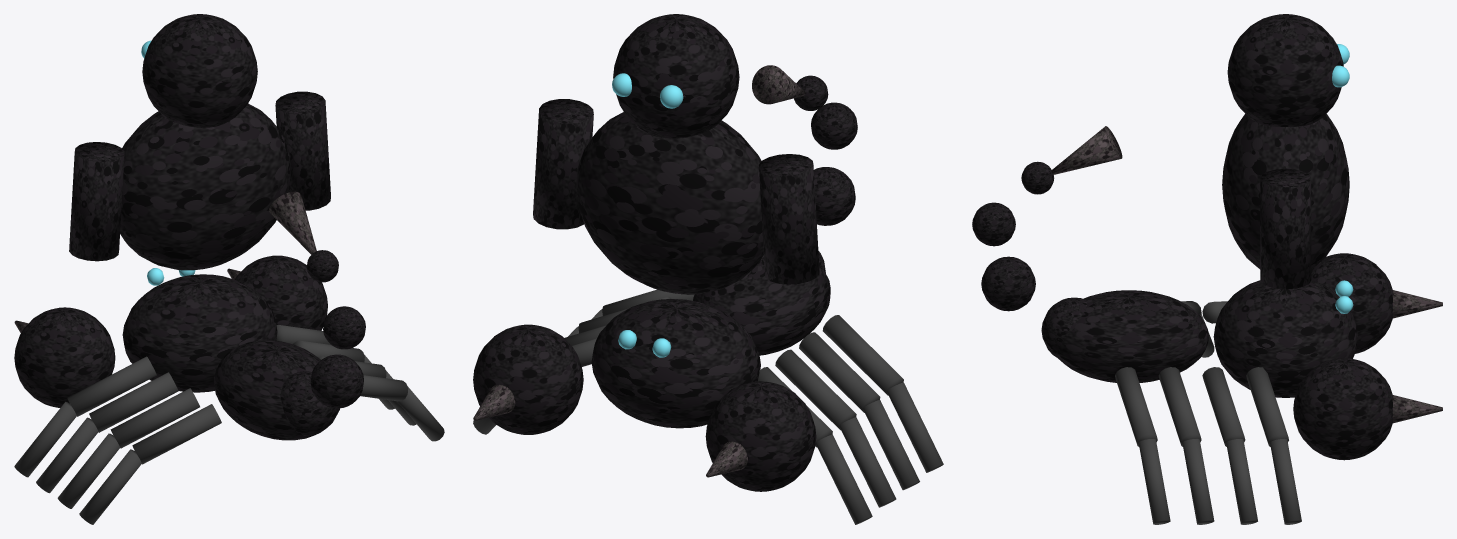
Rendered from scorpion-man.glb.
3 renders of one model, left to right at view 1: azimuth 30°, elevation 25°; view 2: azimuth 150°, elevation 25°; view 3: azimuth 270°, elevation 25°, orthographic. The views are drawn at different scales.
Visible parts, largest first — view 1: Torso, FrontMass, Head, Claw, Abdomen, Arm, Arm.001, Claw.001, TailSeg1, TailSeg0, LegUpper, LegUpper.002 (+13 smaller); view 2: Torso, FrontMass, Head, Claw, Claw.001, Arm, Abdomen, Arm.001, LegUpper.001, LegUpper.003, LegUpper.002, TailSeg1 (+11 smaller); view 3: FrontMass, Torso, Abdomen, Head, Claw.001, Arm.001, Claw, TailSeg1, LegUpper.005, LegUpper.007, LegUpper.004, LegUpper.006 (+10 smaller).
Part boxes in pixels (bbox=[...]): Torso: bbox=[120, 103, 291, 270]; FrontMass: bbox=[122, 274, 277, 392]; Head: bbox=[142, 14, 257, 127]; Claw: bbox=[14, 307, 115, 407]; Abdomen: bbox=[214, 340, 339, 440]; Arm: bbox=[69, 142, 124, 261]; Arm.001: bbox=[275, 91, 330, 210]; Claw.001: bbox=[235, 255, 327, 330]; TailSeg1: bbox=[310, 354, 363, 408]; TailSeg0: bbox=[280, 371, 335, 435]; LegUpper: bbox=[67, 356, 156, 416]; LegUpper.002: bbox=[110, 388, 199, 448]; Torso: bbox=[576, 112, 763, 294]; FrontMass: bbox=[591, 299, 760, 428]; Head: bbox=[613, 14, 739, 138]; Claw: bbox=[705, 381, 816, 491]; Claw.001: bbox=[473, 324, 583, 434]; Arm: bbox=[758, 154, 819, 284]; Abdomen: bbox=[693, 255, 830, 355]; Arm.001: bbox=[533, 99, 593, 229]; LegUpper.001: bbox=[775, 349, 856, 430]; LegUpper.003: bbox=[822, 315, 903, 395]; LegUpper.002: bbox=[799, 332, 880, 412]; TailSeg1: bbox=[814, 167, 855, 225]; FrontMass: bbox=[1213, 280, 1357, 397]; Torso: bbox=[1222, 113, 1349, 269]; Abdomen: bbox=[1057, 290, 1209, 382]; Head: bbox=[1227, 14, 1343, 126]; Claw.001: bbox=[1293, 358, 1393, 460]; Arm.001: bbox=[1260, 168, 1311, 289]; Claw: bbox=[1311, 253, 1393, 353]; TailSeg1: bbox=[981, 256, 1035, 311]; LegUpper.005: bbox=[1202, 367, 1245, 446]; LegUpper.007: bbox=[1115, 367, 1157, 446]; LegUpper.004: bbox=[1246, 367, 1288, 446]; LegUpper.006: bbox=[1158, 367, 1201, 446].
Size of the model in its own units: 0.8986 by 0.9889 by 1.
Materials: 4 (2 with a texture image).
